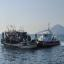fishing boat: (0, 24, 40, 51), (37, 24, 62, 50)
